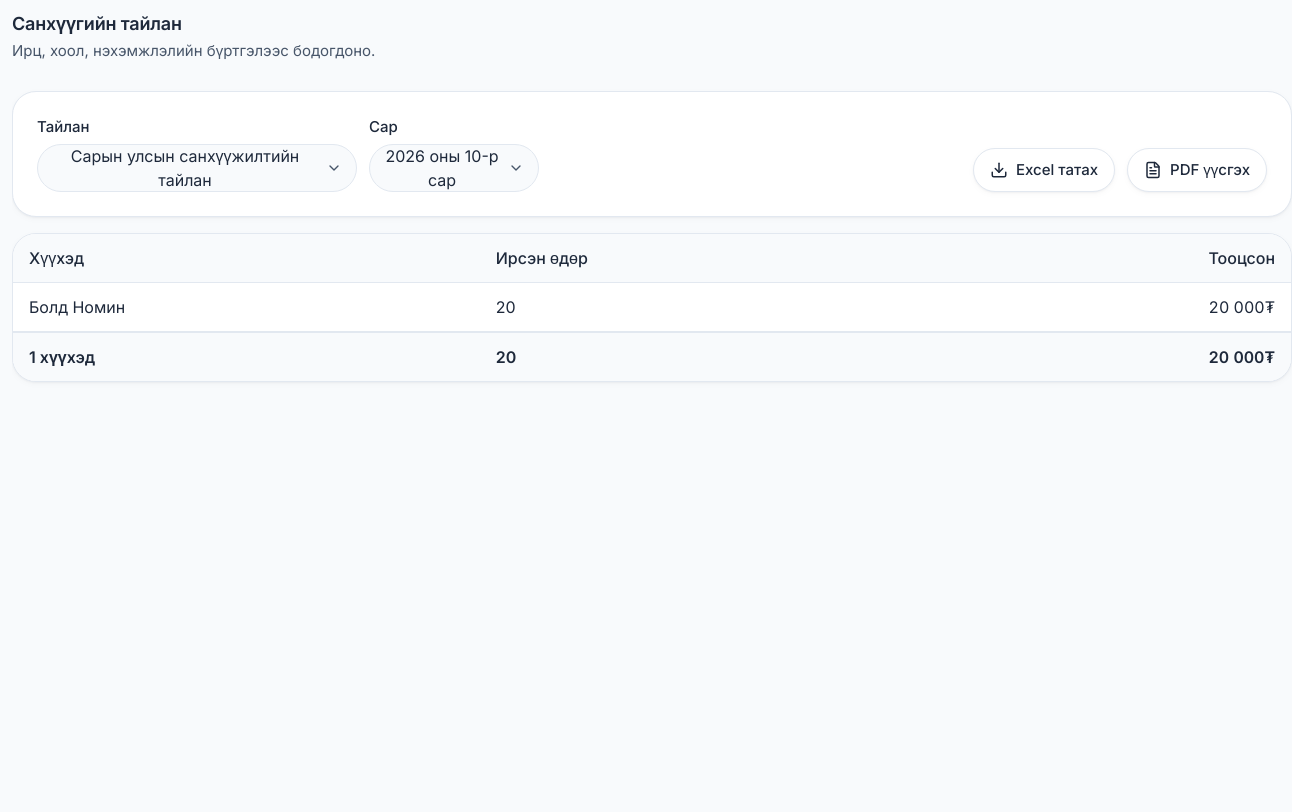
Scenario: the financial reports panel › shows no period control at all for the unpaid report
Expected: the heading "Санхүүгийн тайлан" is shown, [12,13,182,34]
Click the dropdown labelled "тайлан": (197, 168) [37,144,357,192]
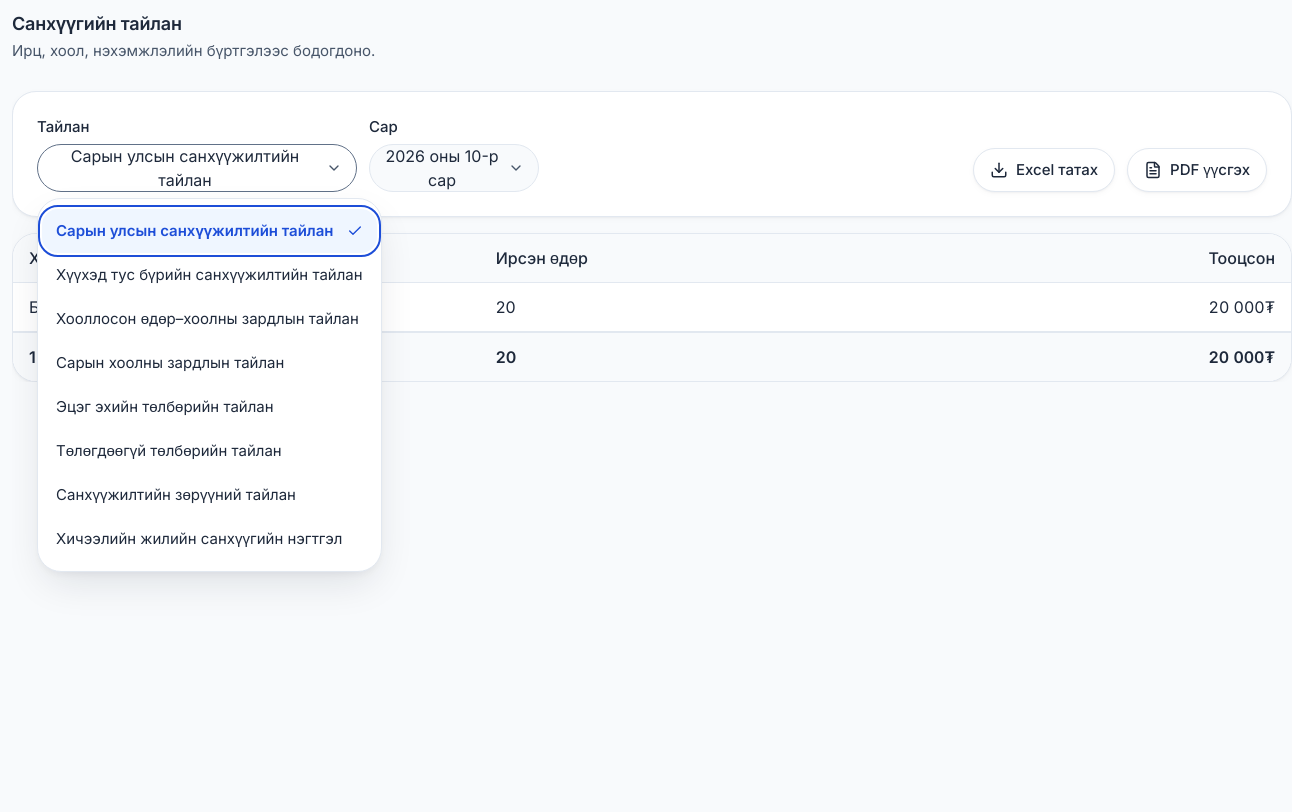
Click the option "Төлөгдөөгүй төлбөрийн тайлан": (169, 450) [56,441,282,460]
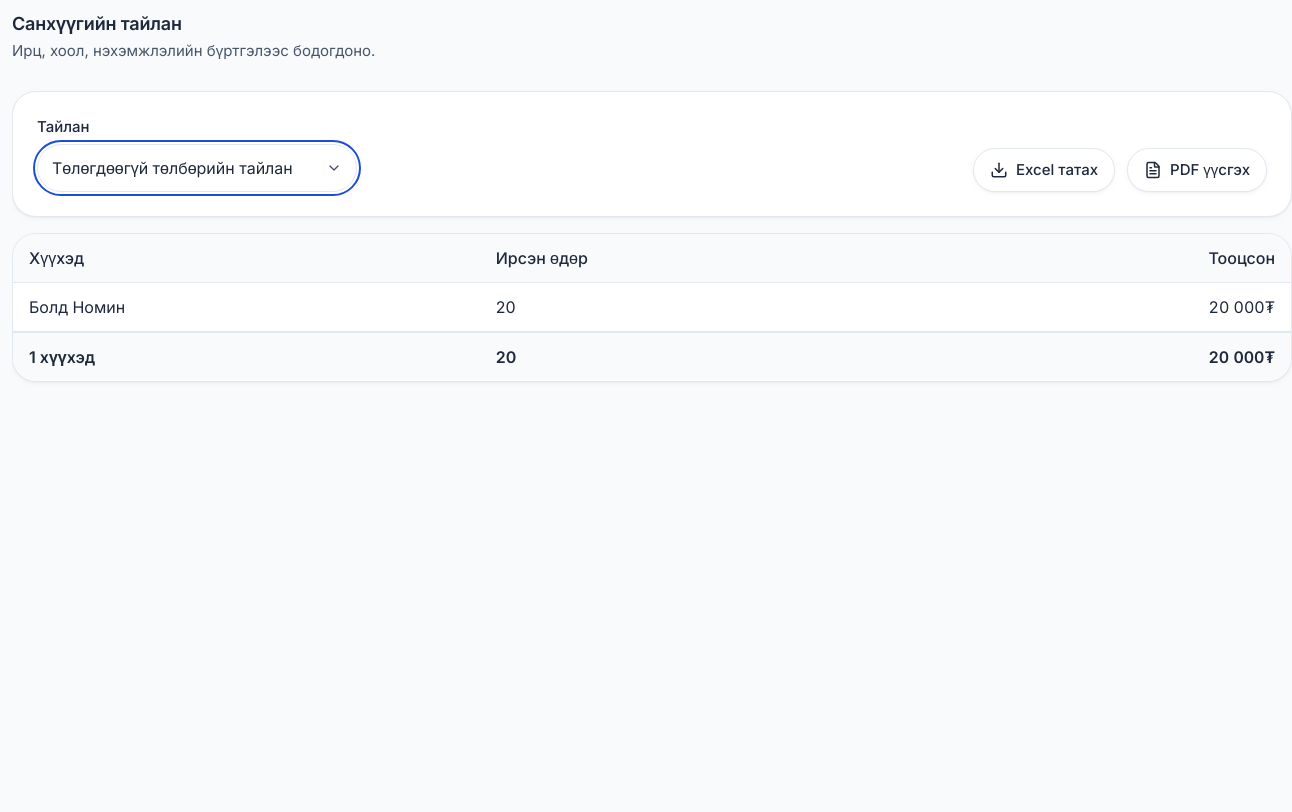
Now the dropdown labelled "Сар" is gone
Now the option labelled "Хичээлийн жил" is gone
